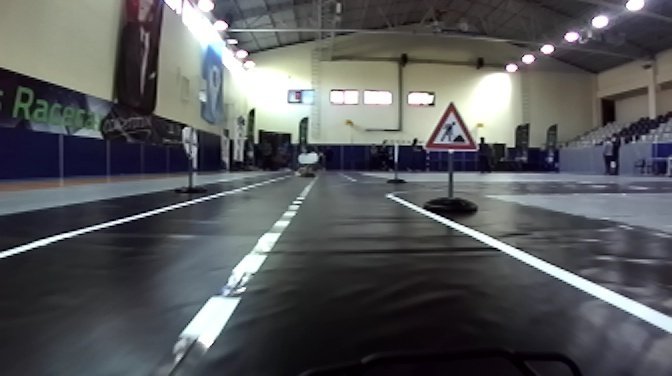yol_yapimi: (421, 99, 479, 149)
